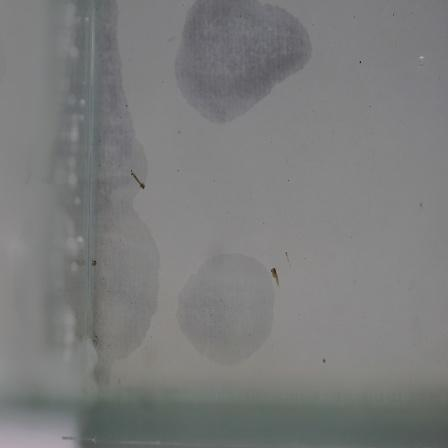Jentik-Nyamuk: (126, 167, 149, 193), (267, 262, 285, 292)
